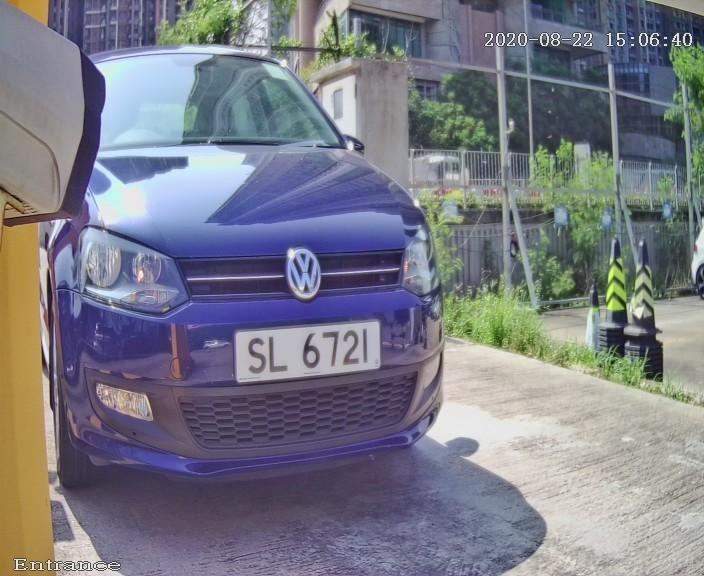Car: (13, 16, 478, 517)
License Plate: (218, 298, 399, 399)
